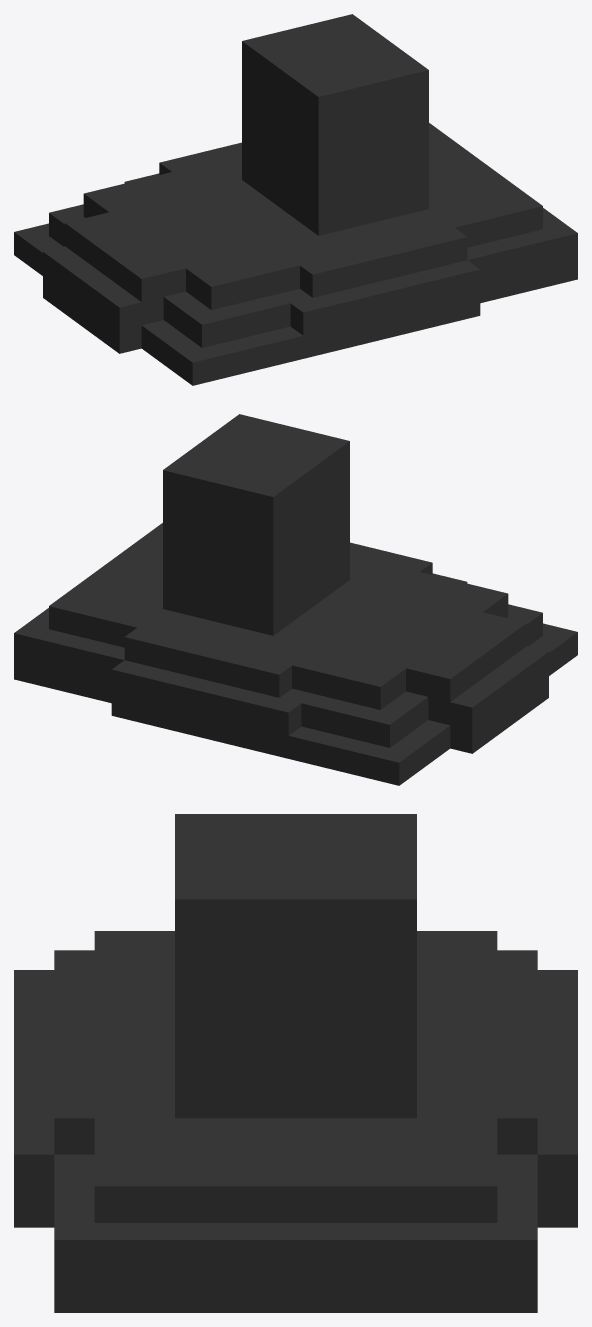
The model's file is Turret_Under.obj.
3 views of the same model, one above another, from view 1: azimuth 30°, elevation 25°; view 2: azimuth 150°, elevation 25°; view 3: azimuth 270°, elevation 25° (orthographic). The views are drawn at different scales.
Size of the model in its own units: 19 by 9 by 14.
Materials: 1 (1 with a texture image).
